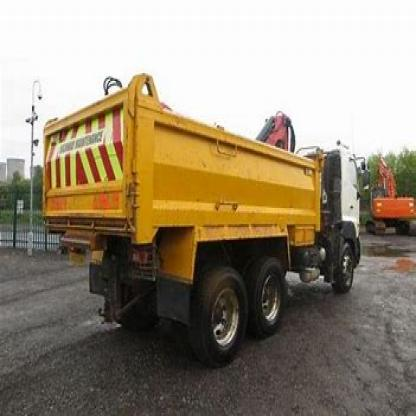dump_truck: (37, 76, 367, 372)
